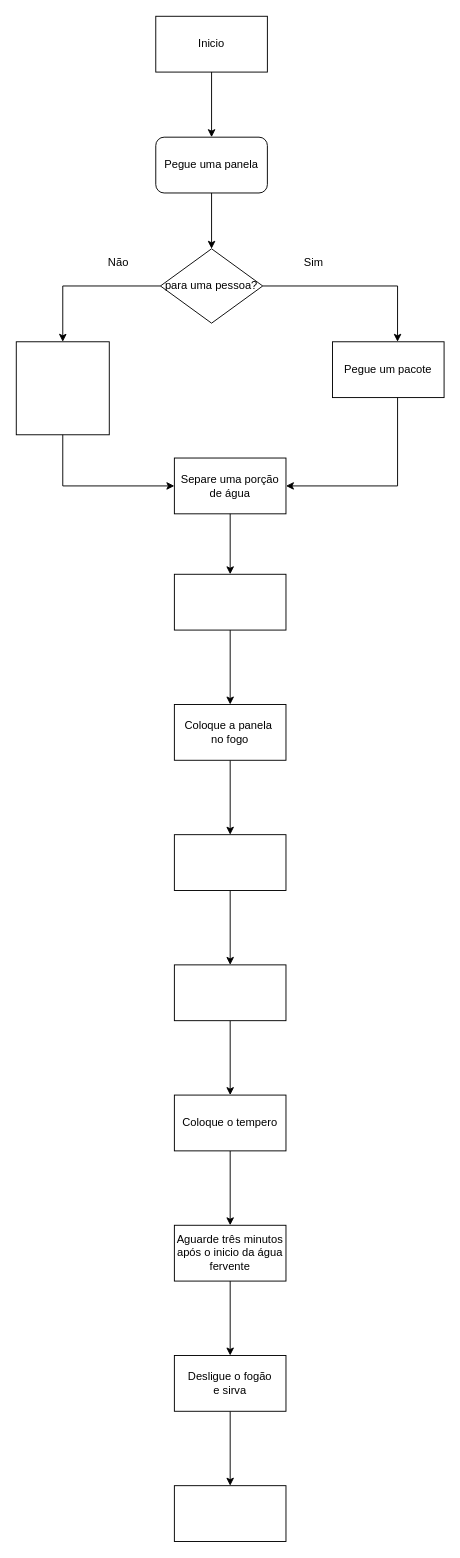
Image size: 460x1558. Some labels were removed from this diagram. Each missing label, with the box of its shape:
Coloque a àgua: (173, 834, 286, 890)
Coloque o macarrão]: (173, 964, 286, 1021)
Fim: (173, 1485, 286, 1541)
Ligar o fogão: (173, 573, 286, 630)
Pegue a quantidade de pacotes igual ao número de pessoas: (15, 341, 109, 435)
